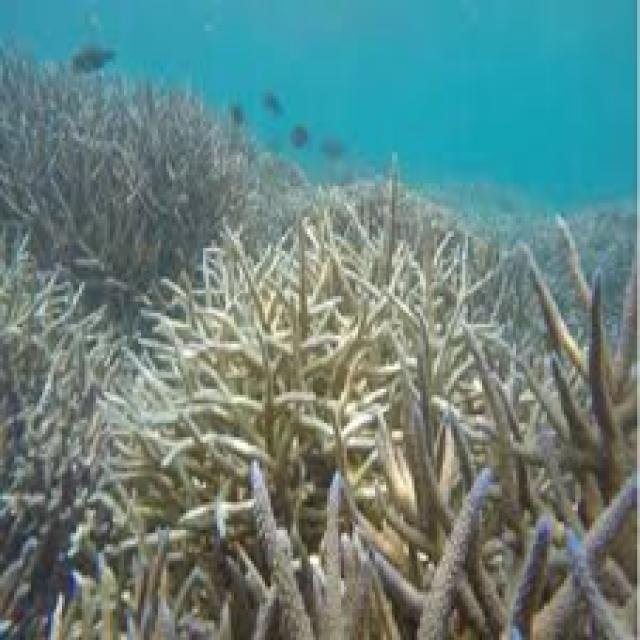Bleached: (121, 219, 525, 568), (1, 223, 249, 640), (406, 228, 640, 592), (1, 47, 309, 298), (241, 463, 640, 640), (505, 164, 640, 361), (305, 170, 504, 275)
